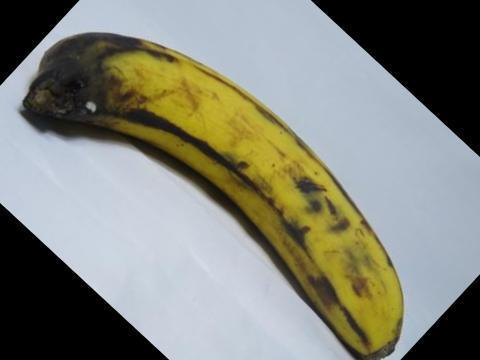overripe: (37, 23, 412, 359)
rotten: (15, 36, 190, 143)
